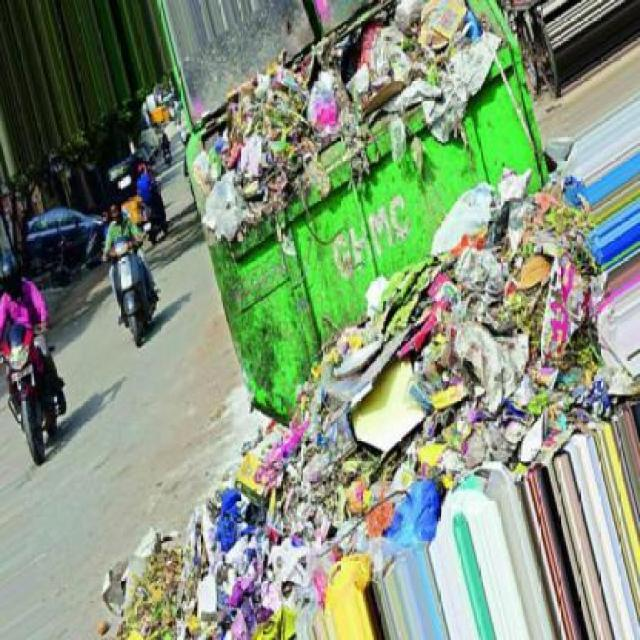garbage: (200, 273, 640, 512), (183, 126, 599, 268), (212, 0, 516, 118), (83, 514, 354, 638)
